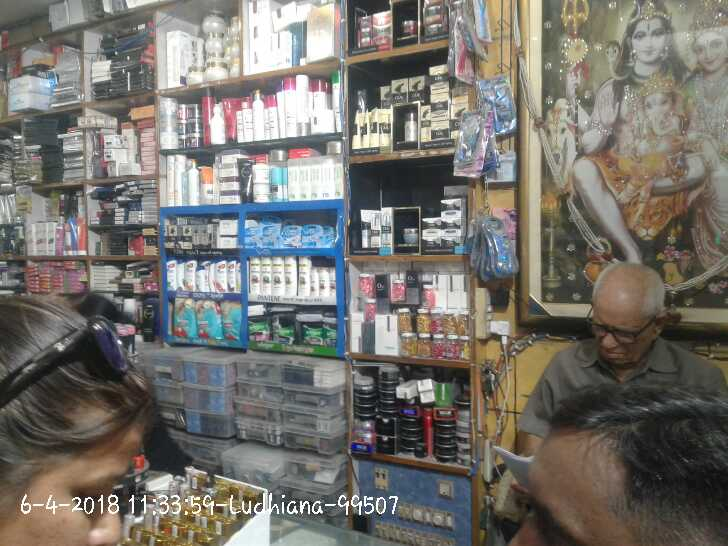venus: (304, 222, 332, 245), (264, 214, 282, 247), (285, 224, 302, 246), (245, 226, 261, 248)
